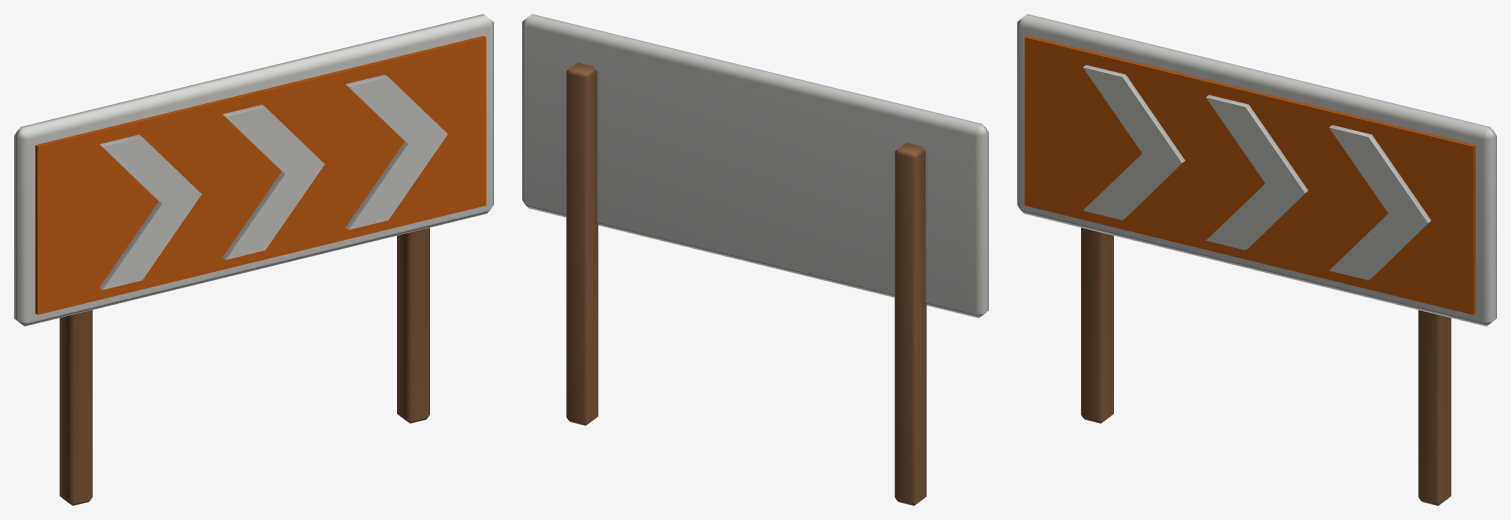
File: prop.sign_arrow.glb
3 renders of one model, left to right at view 1: azimuth 30°, elevation 25°; view 2: azimuth 150°, elevation 25°; view 3: azimuth 330°, elevation 25°, orthographic. The views are drawn at different scales.
Parts seen in each view (by area): view 1: sign_arrow; view 2: sign_arrow; view 3: sign_arrow.
Boxes of the visible parts, x1,y1,x2,y2 form: sign_arrow: [14, 14, 493, 505]; sign_arrow: [522, 14, 988, 505]; sign_arrow: [1017, 14, 1496, 505].
Bounding box in the file's own units: 2.4 × 1.9 × 0.24.
